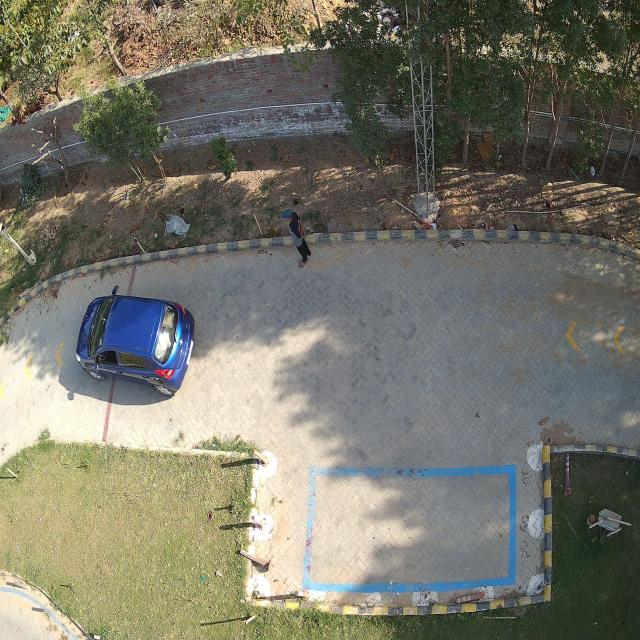car: (76, 287, 194, 397)
